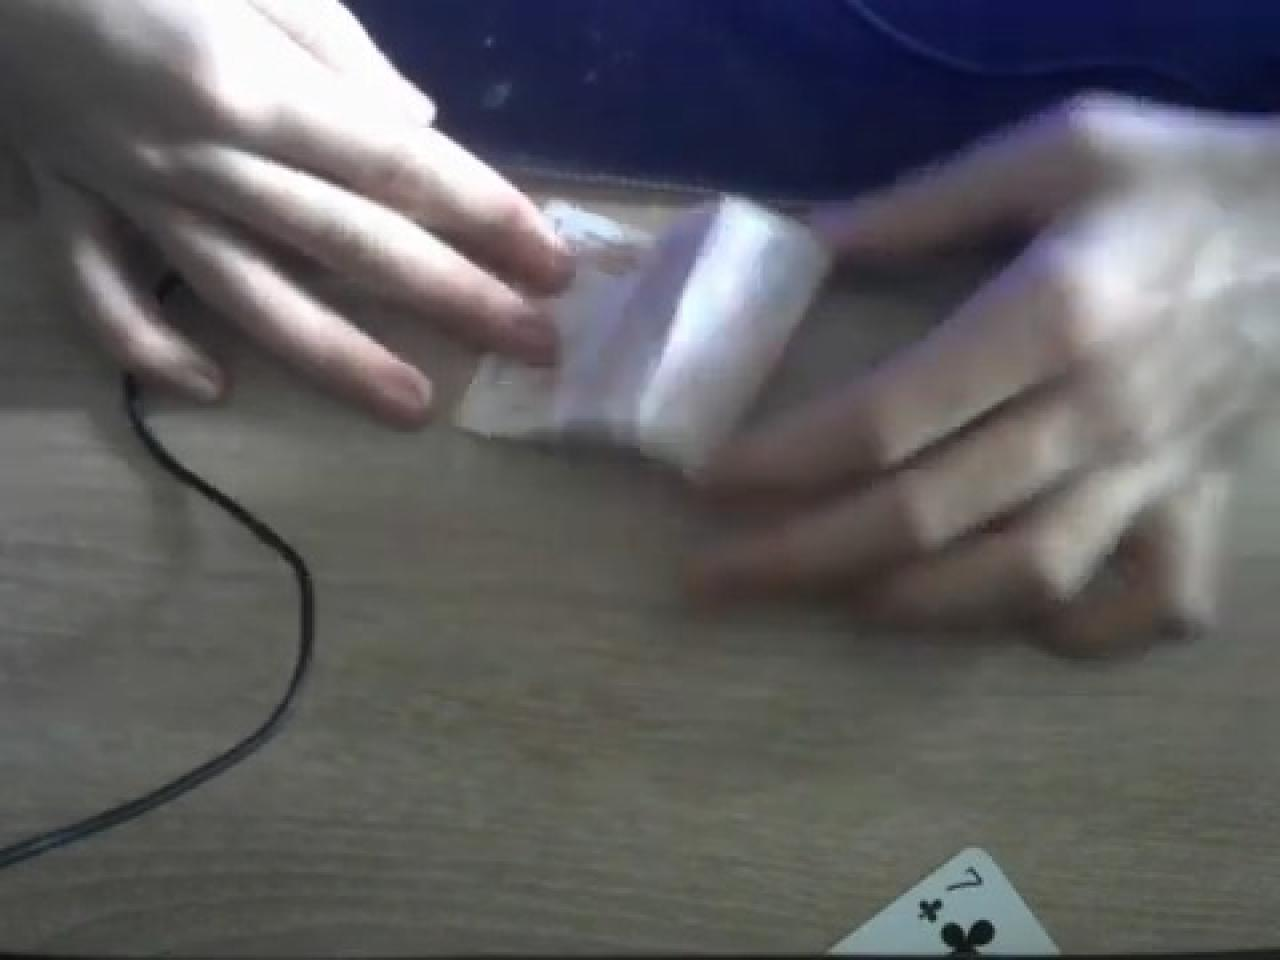5leva: (440, 192, 833, 477), (447, 192, 829, 475)
